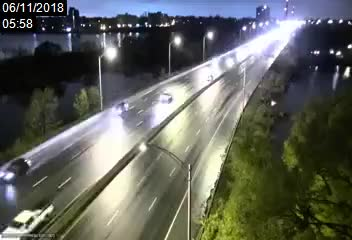personal_car: (1, 201, 53, 235), (1, 158, 30, 184), (113, 101, 130, 116), (157, 92, 173, 105)
